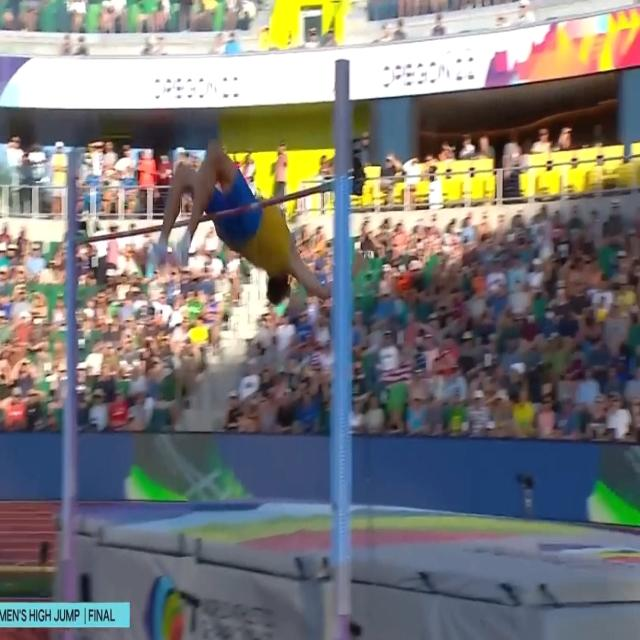jump: (144, 139, 332, 306)
